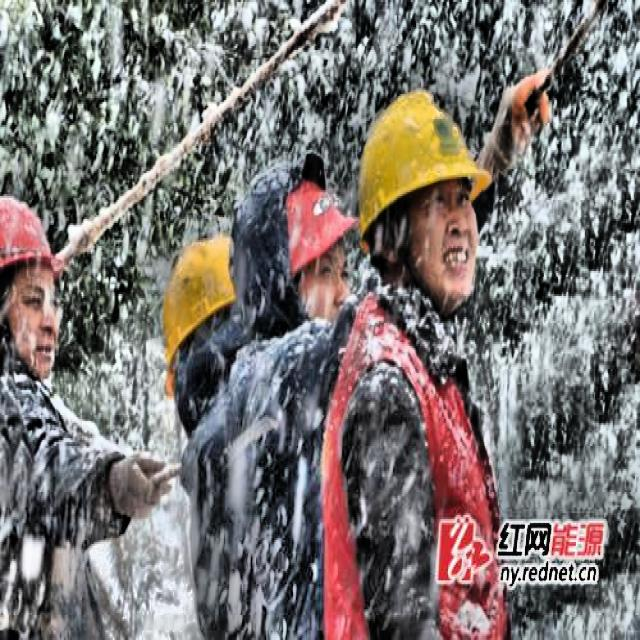helmet: (348, 71, 496, 319), (148, 225, 240, 419), (286, 171, 364, 334), (1, 190, 67, 381)
